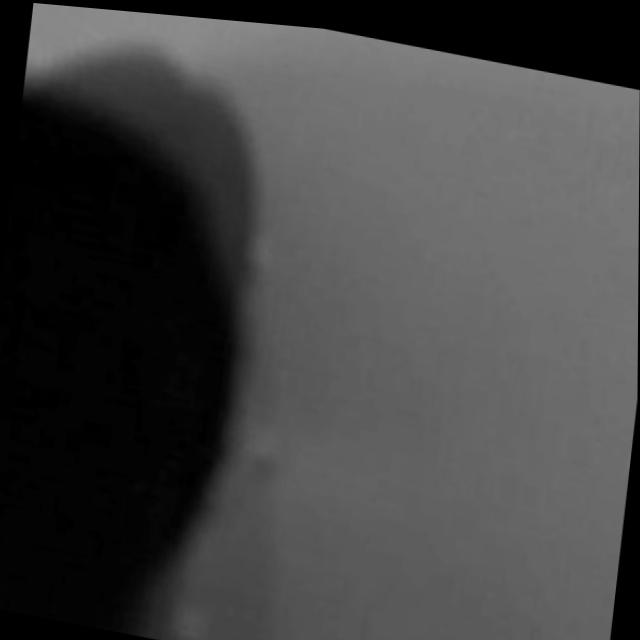braiile: (153, 584, 256, 640)
